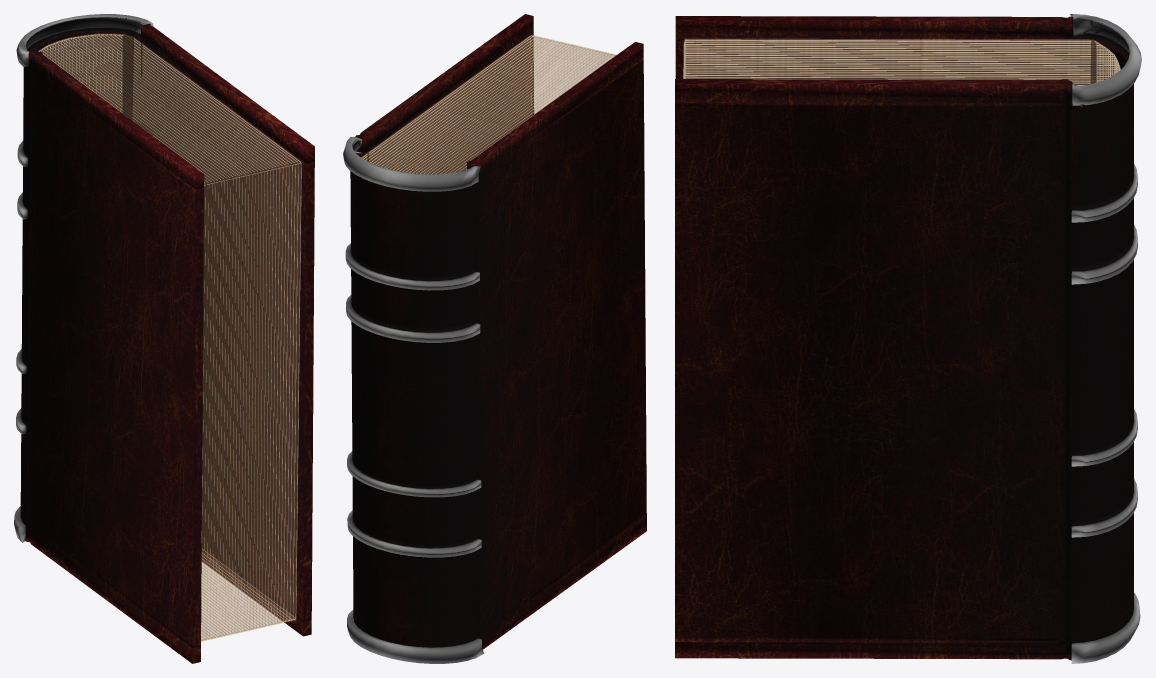
The model's file is book.glb.
3 views of the same model, side by side, from view 1: azimuth 30°, elevation 25°; view 2: azimuth 150°, elevation 25°; view 3: azimuth 270°, elevation 25° (orthographic). The views are drawn at different scales.
Visible parts, largest first — view 1: cover, pages; view 2: cover, pages; view 3: cover, pages.
Boxes of the visible parts, x1,y1,x2,y2 form: cover: (14, 14, 314, 663); pages: (38, 34, 301, 641); cover: (343, 14, 646, 663); pages: (361, 35, 616, 174); cover: (675, 14, 1141, 663); pages: (683, 38, 1120, 85).
Bounding box in the file's own units: 4.94 × 17.08 × 12.5.
3 materials, 2 textured.
